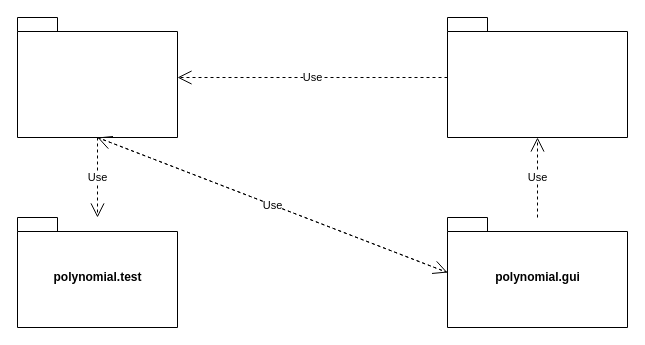
This 645x345 diagram has some shape labels left out. Each missing label, with the centre of its shape:
polynomial.logic: the point at 537,77
polynomial.model: the point at 97,77
